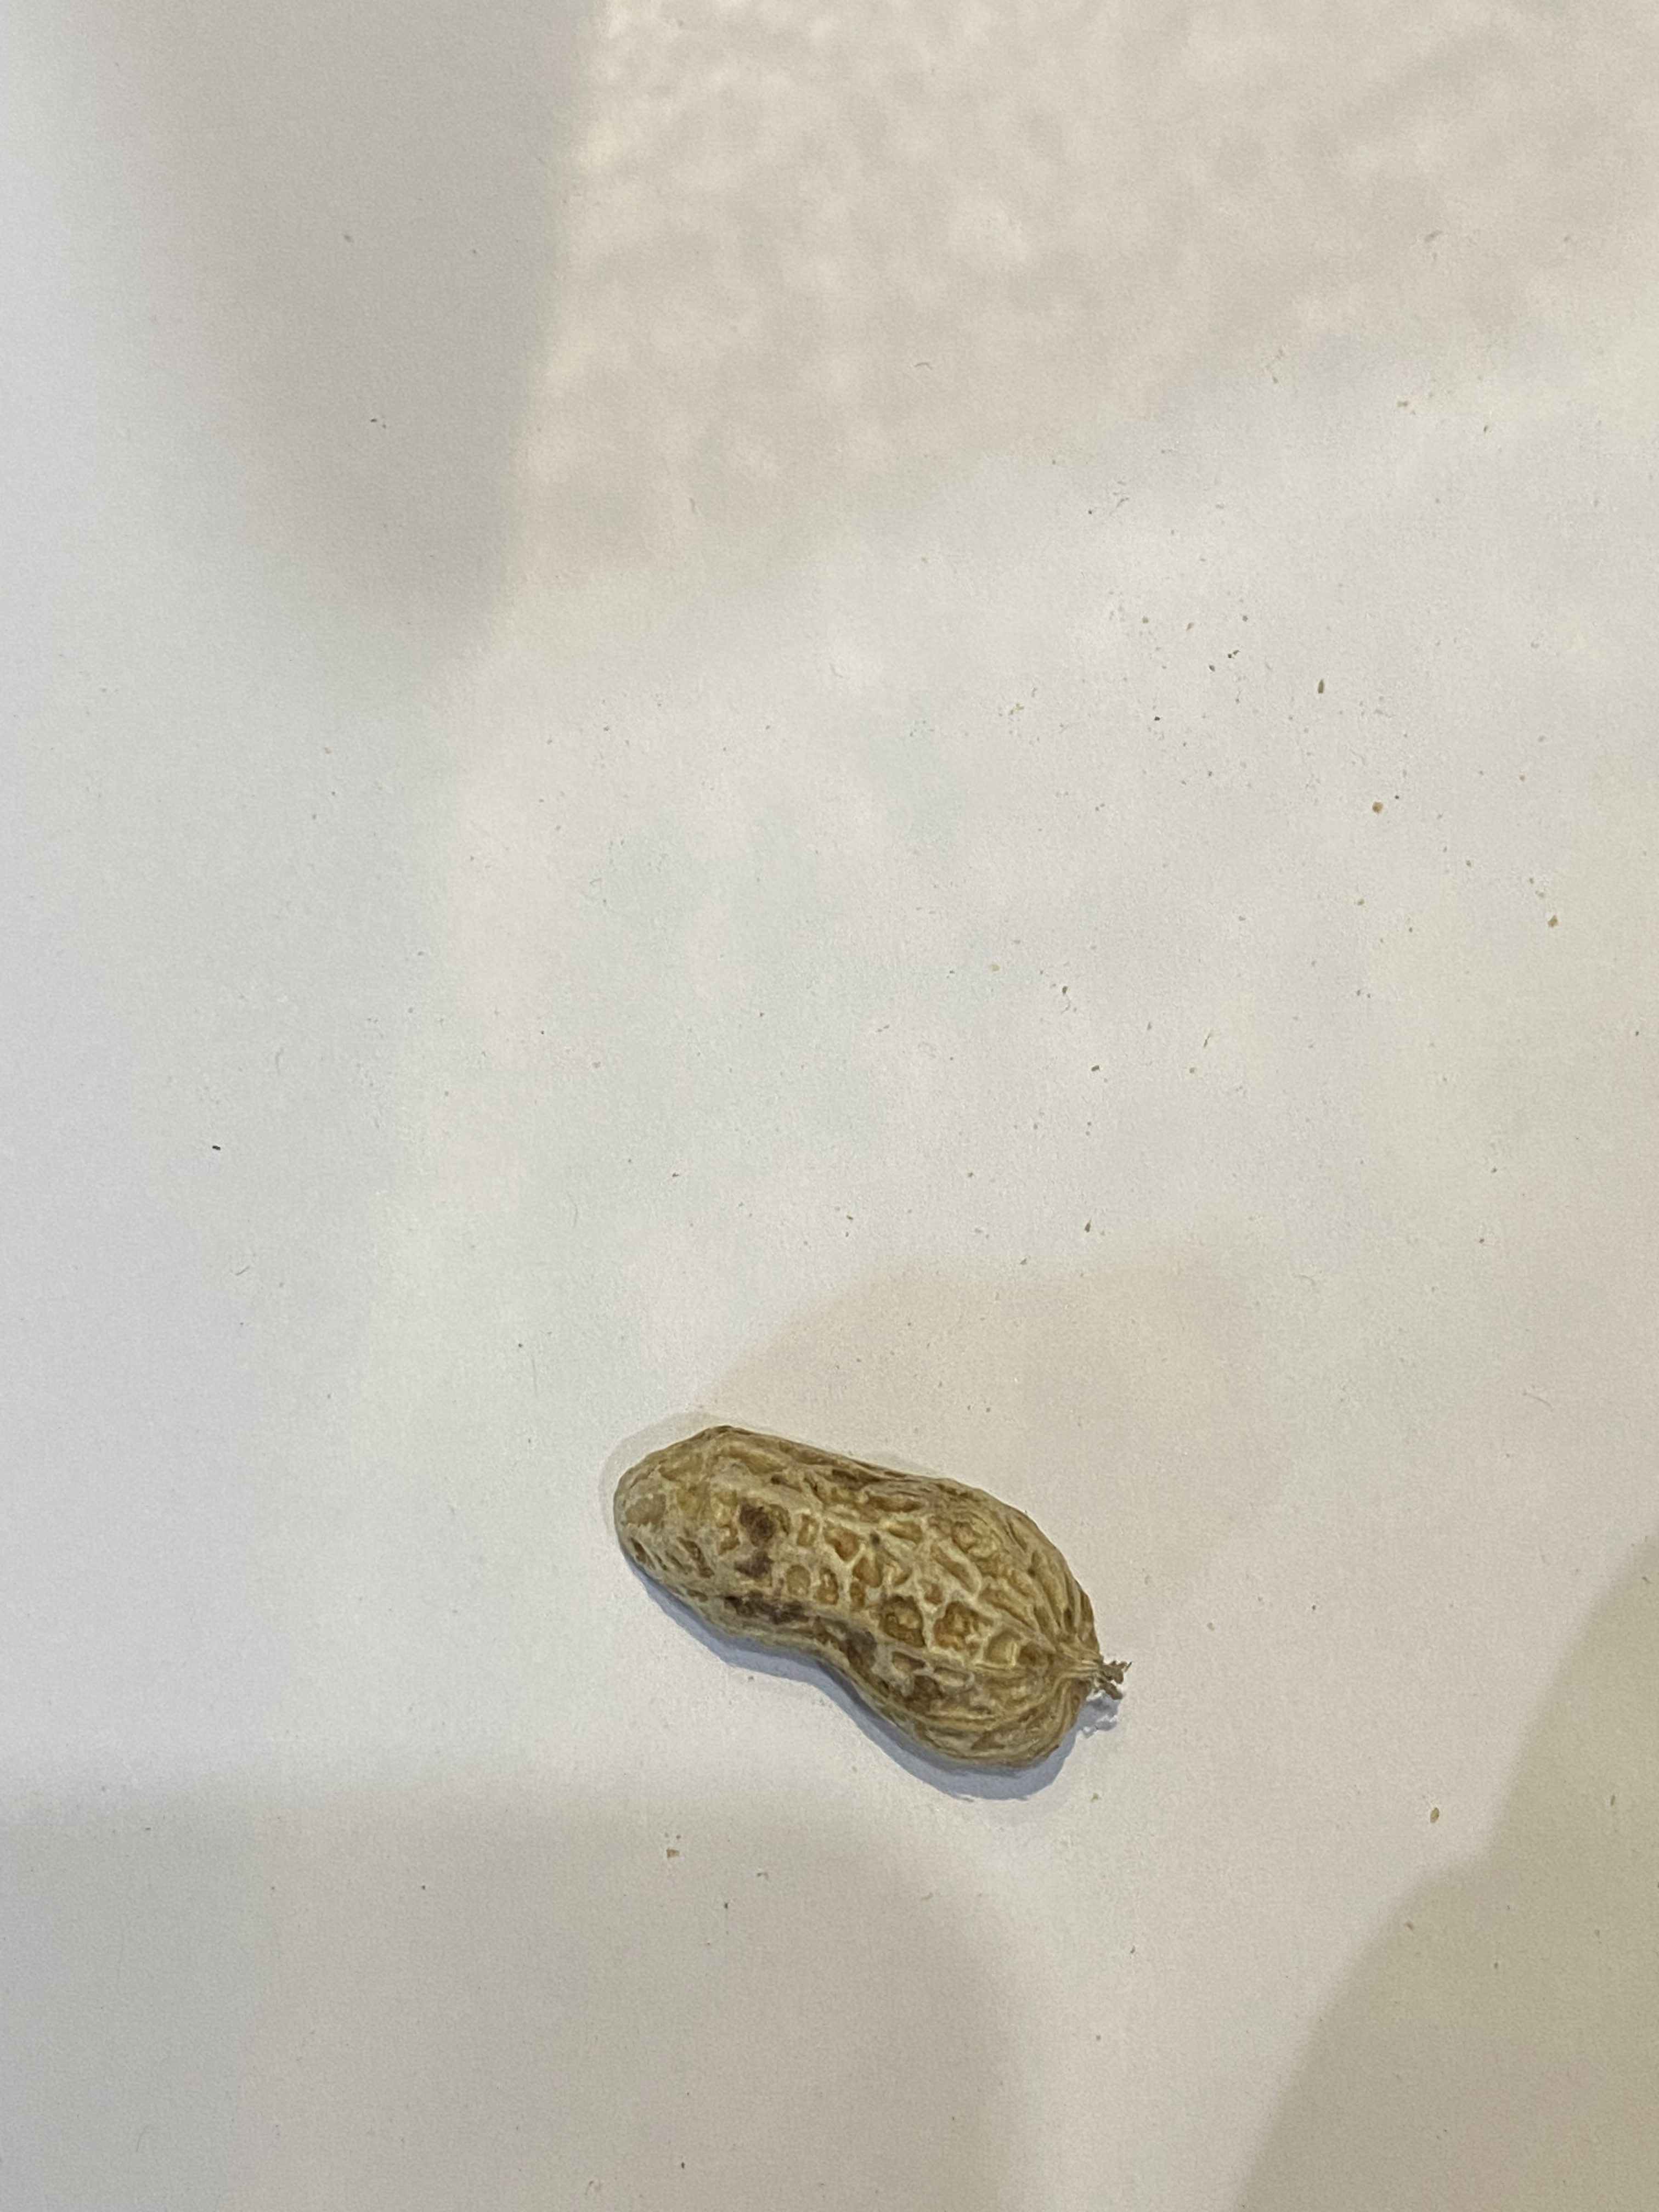kacang2: (612, 1411, 1115, 1778)
